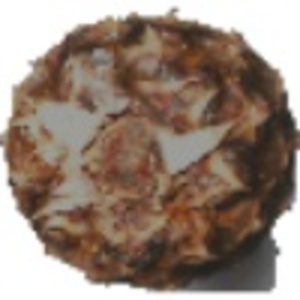abacaxi: (6, 11, 283, 289)
